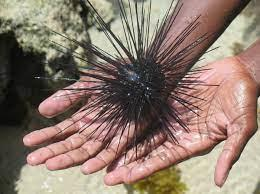urchin: (7, 0, 227, 175)
